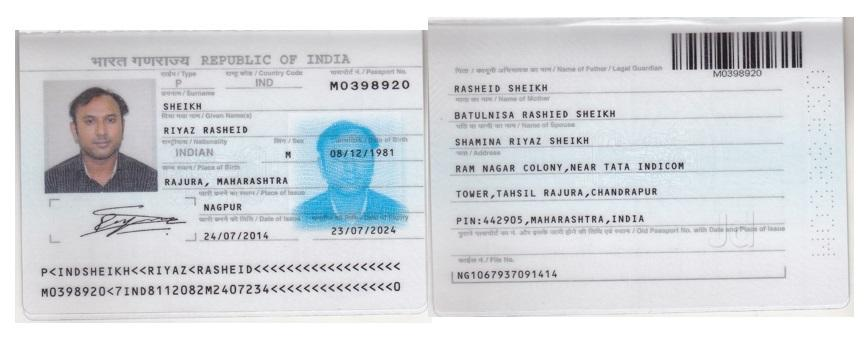DOB: (325, 145, 401, 161)
File_no: (454, 267, 564, 284)
Surname: (160, 98, 208, 115)
address: (446, 156, 692, 226)
country_code: (251, 75, 277, 92)
date_of_expiry: (324, 221, 402, 242)
date_of_issue: (202, 222, 275, 248)
details: (34, 258, 414, 306)
father_name: (450, 79, 555, 95)
mother_name: (450, 105, 618, 122)
name: (161, 121, 252, 138)
nationality: (172, 145, 222, 162)
passport_no: (326, 76, 414, 97), (710, 66, 772, 84)
photo: (41, 80, 156, 192)
place_of_birth: (161, 174, 298, 186)
place_of_issue: (199, 201, 250, 213)
sex: (279, 144, 299, 166)
sign: (82, 202, 183, 237)
spouse_name: (449, 131, 594, 150)
type: (168, 76, 188, 94)
